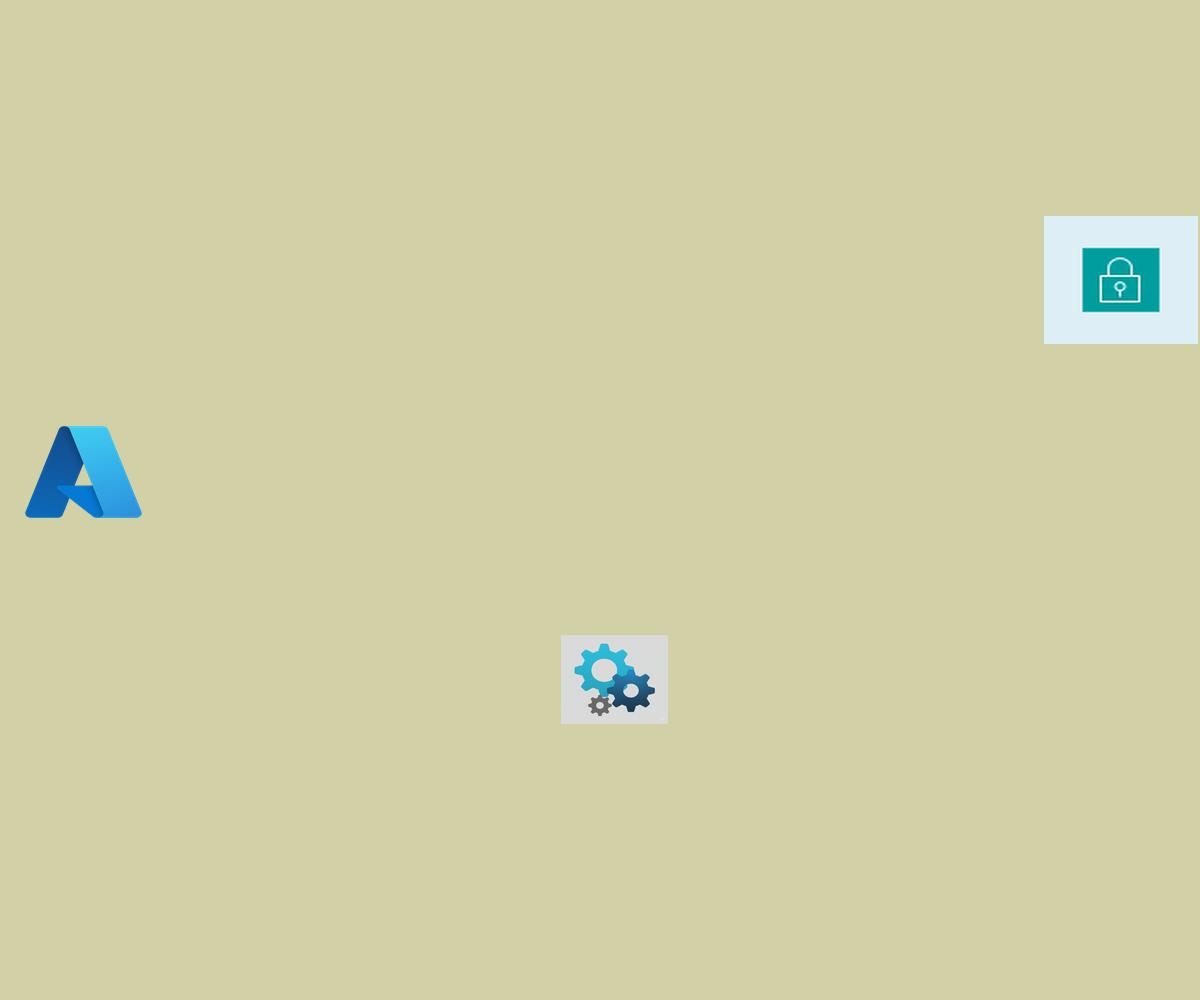AWS-Private-subnet: (1044, 216, 1198, 344)
Azure_api: (561, 635, 668, 724)
Azure_services: (20, 419, 147, 525)
